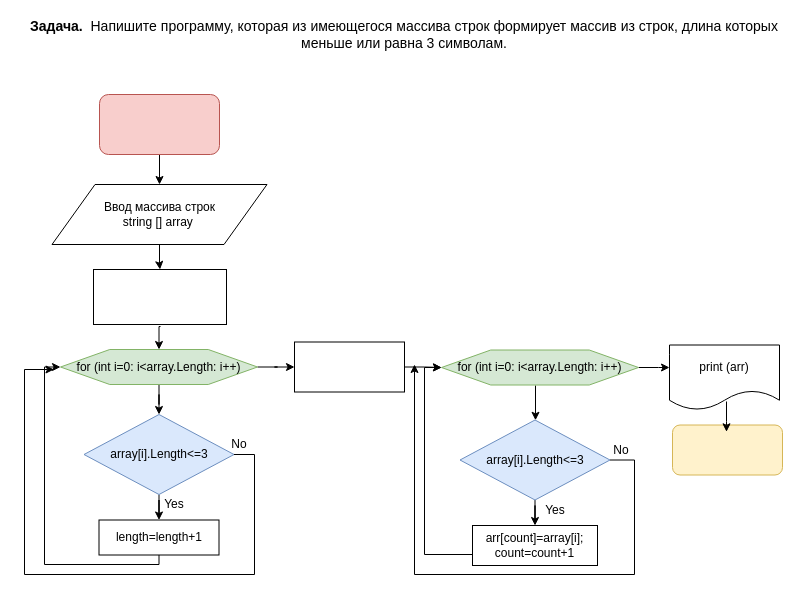
Some shapes in this 802 by 600 pixel diagram are drawn without their labels. Here are the shapes that lost their labels. From the top down, the centre of each, then its label:
point (159, 124): Start
point (159, 296): int length=0; int count=0;
point (349, 366): string [] arr=new string [length];
point (727, 449): End
